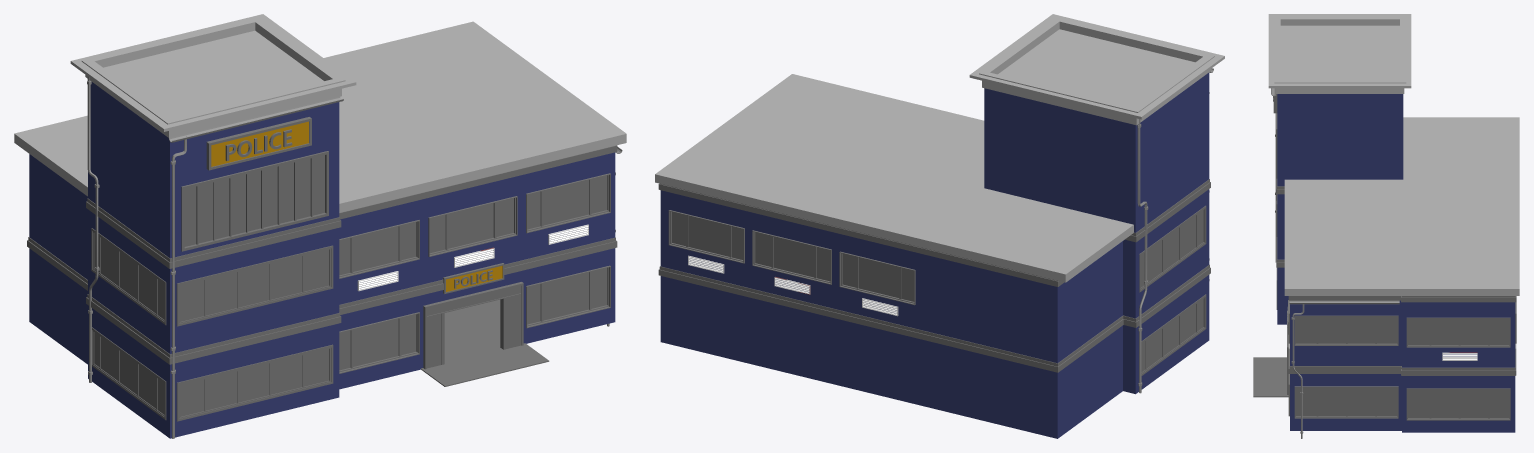
Rendered from SM_policestation_building.fbx.
The picture shows the model from 3 angles, left to right: view 1: azimuth 30°, elevation 25°; view 2: azimuth 150°, elevation 25°; view 3: azimuth 270°, elevation 25°; orthographic projection. The views are drawn at different scales.
Visible parts, largest first — view 1: Object32298; view 2: Object32298; view 3: Object32298.
Boxes of the visible parts, x1,y1,x2,y2 form: Object32298: [14, 14, 626, 438]; Object32298: [655, 14, 1224, 438]; Object32298: [1253, 14, 1519, 438].
Bounding box in the file's own units: 860 × 569 × 547.
